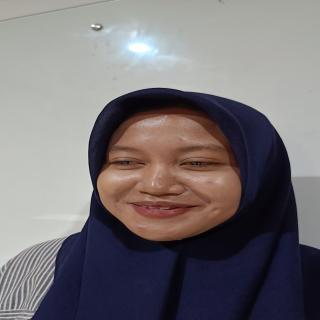Senang: (94, 104, 244, 244)
